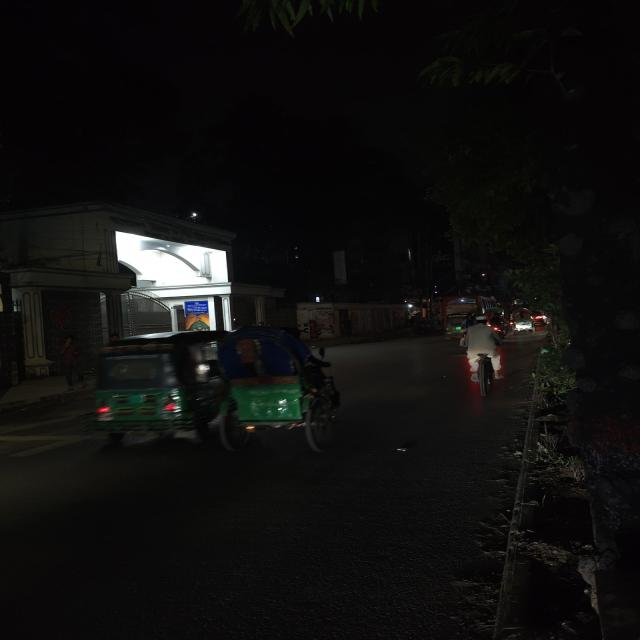bicycle: (461, 312, 505, 397)
bus: (438, 294, 498, 312)
cng: (96, 328, 206, 440), (442, 312, 469, 339)
motorcycle: (484, 309, 514, 341)
rickshaw: (203, 319, 339, 456), (514, 308, 537, 335)
